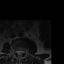CCS_normal: (18, 48, 20, 56)
LFS_normal: (23, 49, 25, 55)
LLS_normal: (20, 49, 23, 55)
RFS_normal: (14, 48, 16, 54)
RLS_normal: (16, 48, 18, 55)
